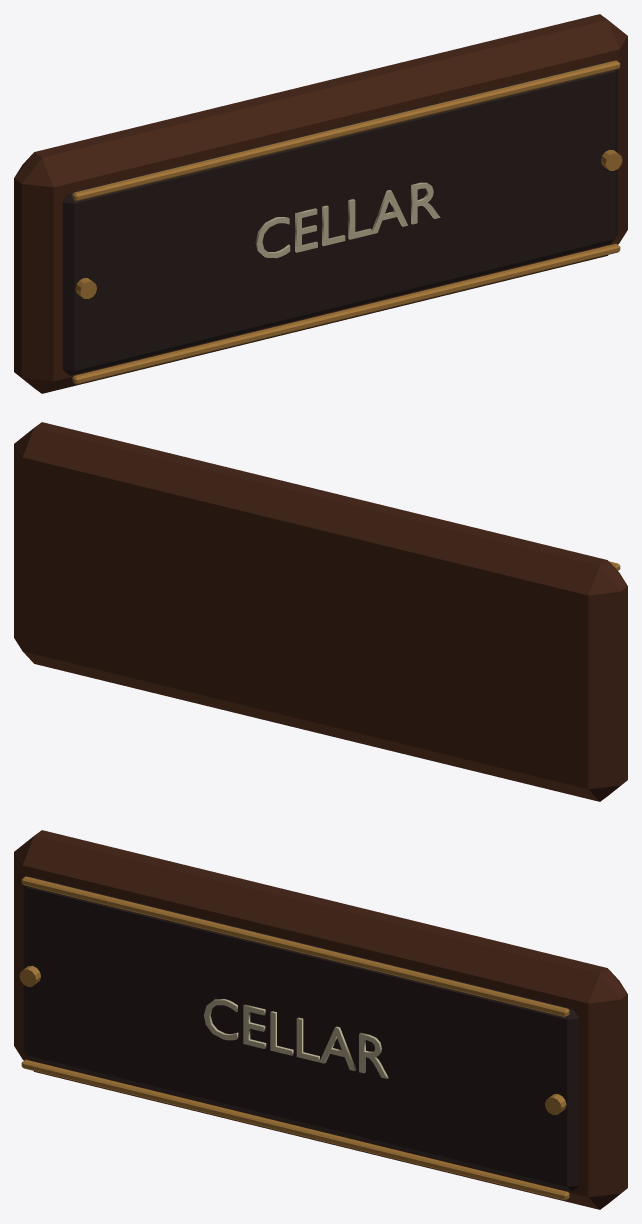
File: CellarSign.glb
3 views of the same model, one above another, from view 1: azimuth 30°, elevation 25°; view 2: azimuth 150°, elevation 25°; view 3: azimuth 330°, elevation 25° (orthographic).
Parts seen in each view (by area): view 1: InsetBoard.002, OakSignBoard.002, BrassBorder.004, BrassBorder.005, SignLettering.002; view 2: OakSignBoard.002; view 3: InsetBoard.002, OakSignBoard.002, BrassBorder.004, BrassBorder.005, SignLettering.002.
Part boxes in pixels (box(x1,y1,x2,y2)): InsetBoard.002: box(62, 60, 618, 375); OakSignBoard.002: box(14, 14, 627, 393); BrassBorder.004: box(72, 243, 620, 384); BrassBorder.005: box(72, 60, 620, 201); SignLettering.002: box(255, 182, 440, 258); OakSignBoard.002: box(14, 422, 627, 801); InsetBoard.002: box(23, 876, 579, 1191); OakSignBoard.002: box(14, 830, 627, 1209); BrassBorder.004: box(21, 1059, 569, 1200); BrassBorder.005: box(21, 876, 569, 1017); SignLettering.002: box(203, 999, 388, 1078).
Size of the model in its own units: 1.8 by 0.67 by 0.2365.
